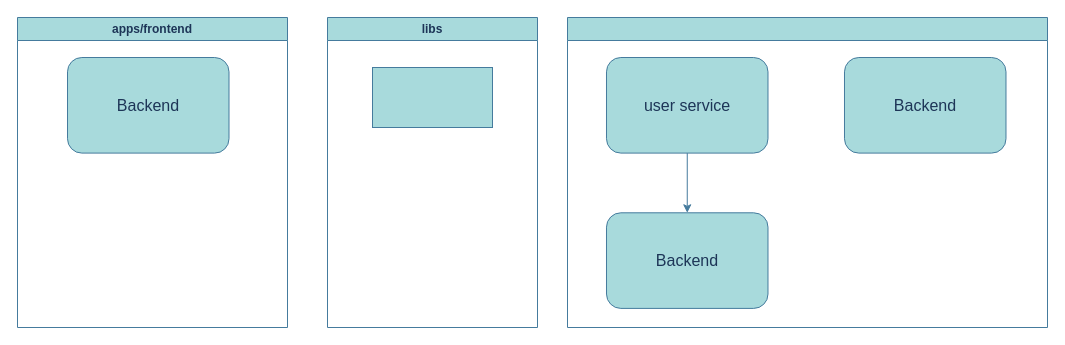
Some shapes in this 1065 by 345 pixel diagram are drawn without their labels. The shapes that lost their labels are listed below. From the top down, each one's centre as x and y in pixels, then its label:
At point 432,97: "Dto".
At point 807,172: "apps/backend".
